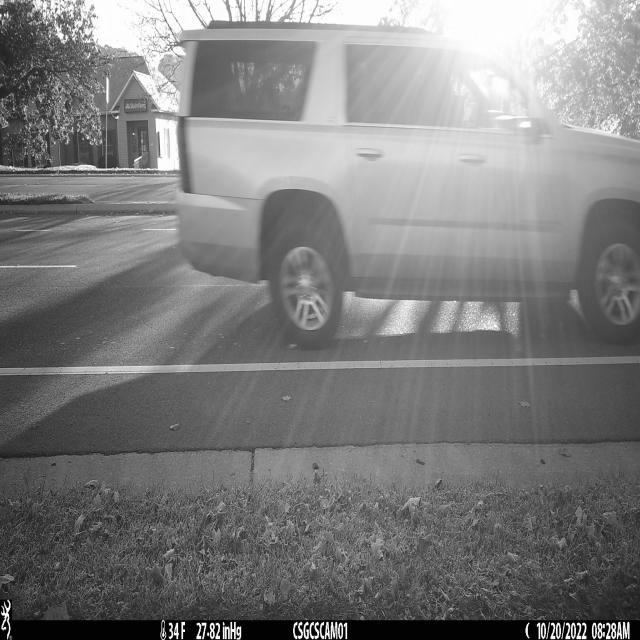SUV: (176, 24, 640, 347)
